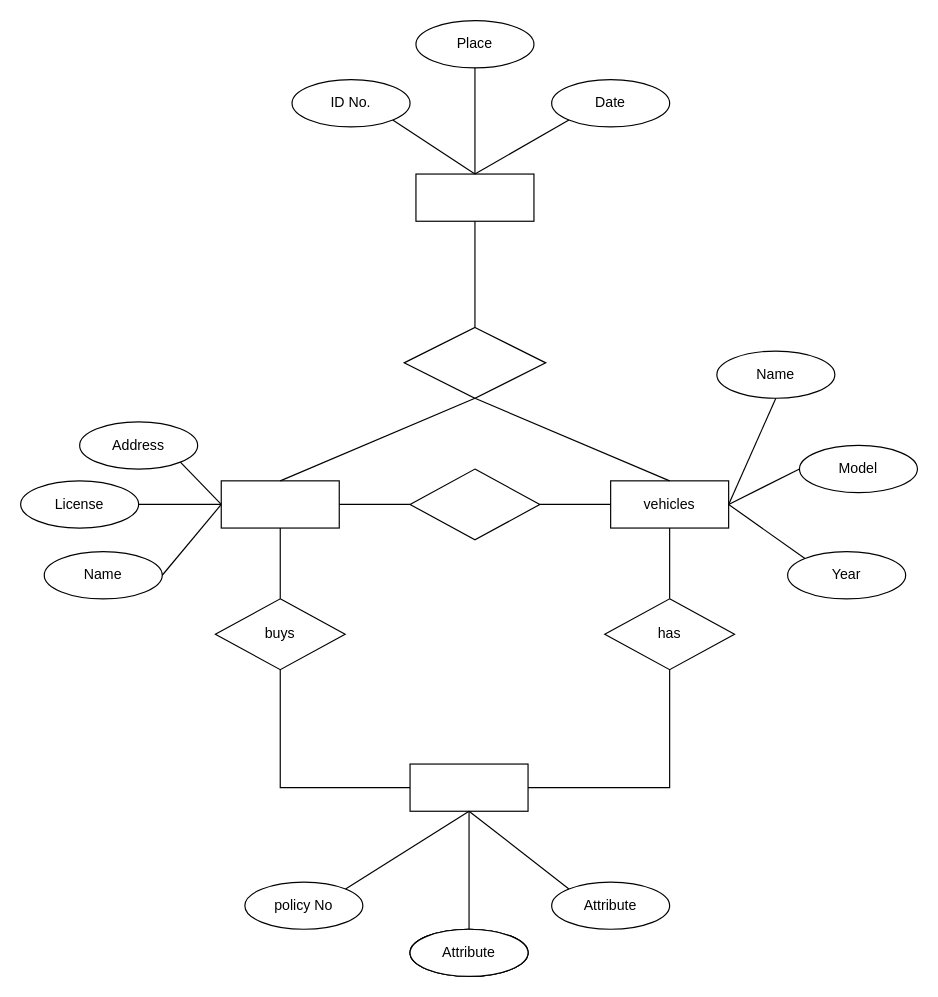
Some shapes in this 938 by 997 pixel diagram are drawn without their labels. Here are the shapes that lost their labels. From the top down, the centre of each, then its label:
At (x=474, y=197): "Accidents".
At (x=474, y=362): "participate".
At (x=279, y=504): "Customer".
At (x=474, y=504): "owns".
At (x=468, y=787): "Insurance".
